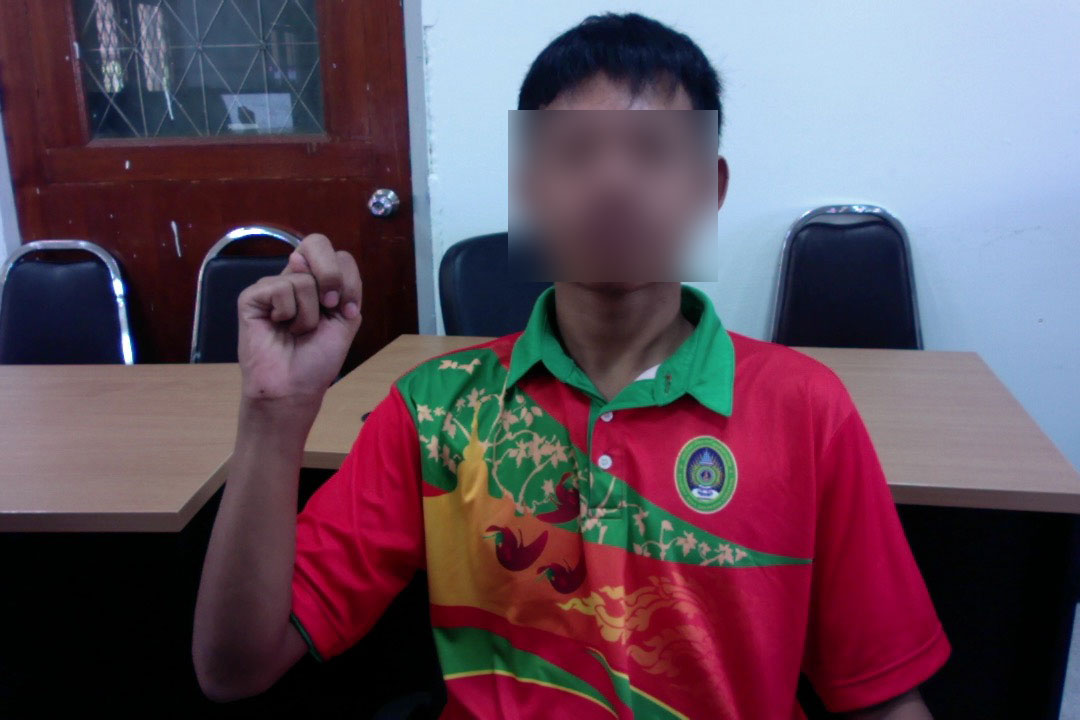nor: (227, 226, 368, 438)
